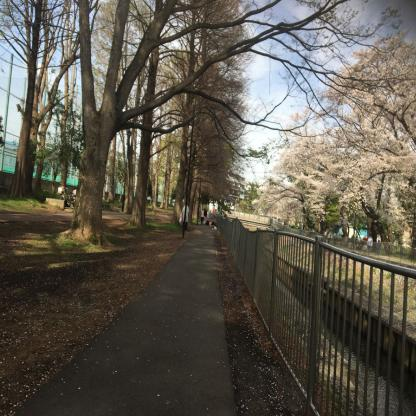Someiyoshino: (249, 15, 416, 240)
